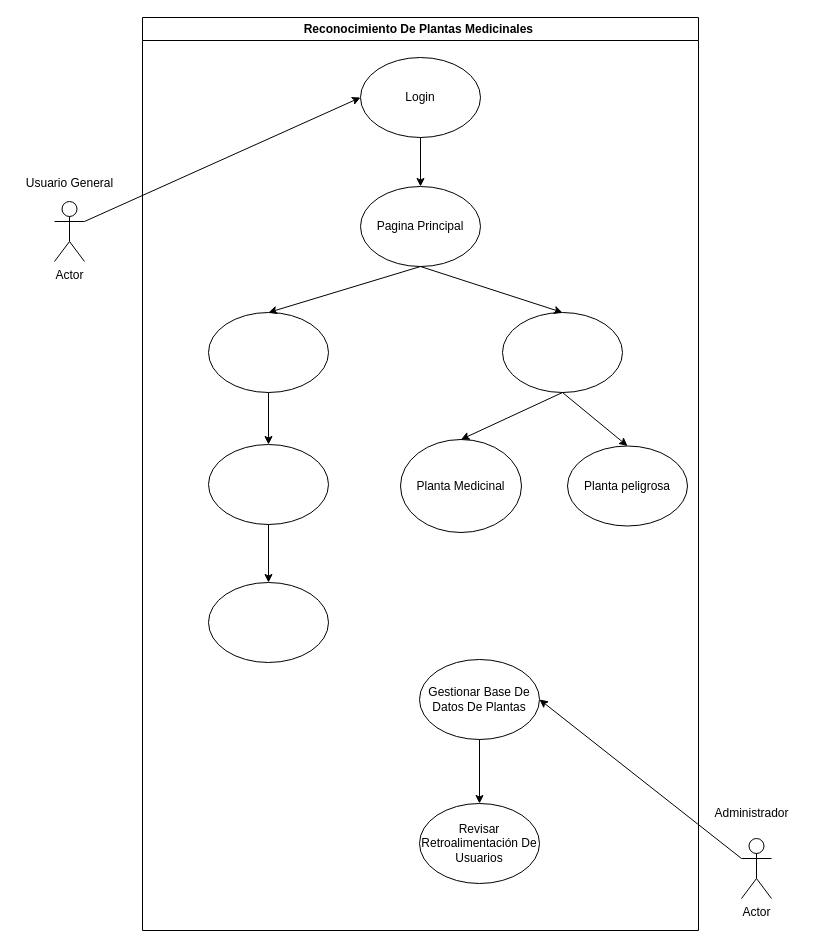
This 815x948 diagram has some shape labels left out. The shapes that lost their labels are listed below. From the top down, each one's box as (x1, y1, x2, y2) in pixels, then its label:
(208, 312, 328, 392): Escaneo
(502, 312, 622, 392): Catalogo de plantas
(208, 444, 328, 524): escanerar planta
(208, 582, 328, 662): Identificar Planta
